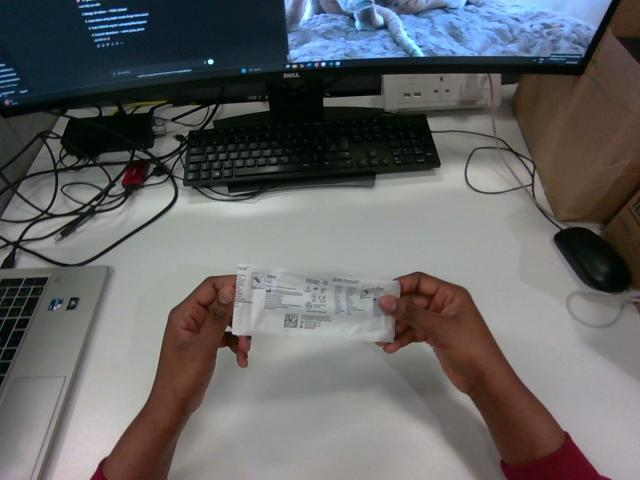syringe: (232, 265, 399, 341)
